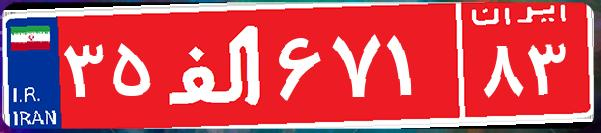1: (385, 28, 445, 110)
3: (57, 26, 110, 107), (525, 38, 570, 115)
5: (110, 28, 158, 105)
6: (273, 28, 330, 110)
7: (330, 28, 385, 110)
8: (475, 38, 525, 113)
الف: (158, 15, 273, 115)
